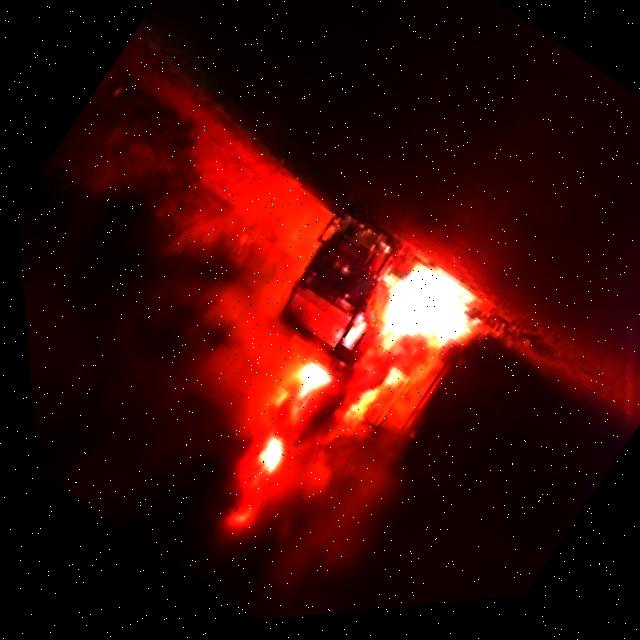Fire: (280, 227, 503, 450)
Smoke: (44, 254, 432, 636)
